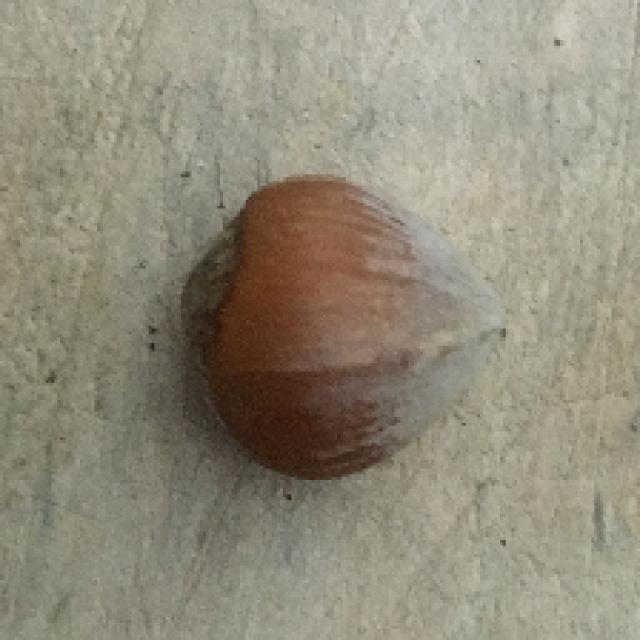qualityHazelnut: (181, 179, 510, 466)
